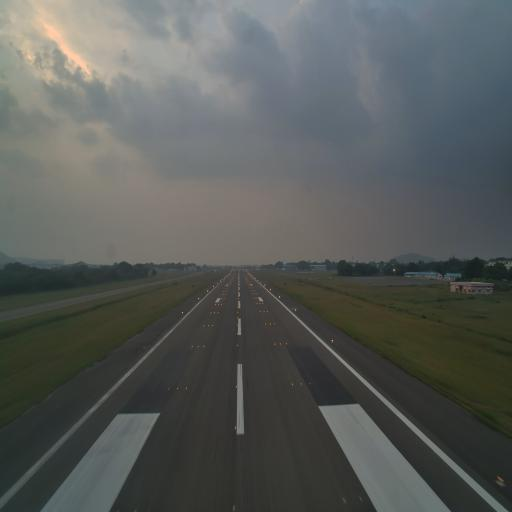off: (143, 345, 146, 351), (236, 359, 238, 365)
on: (496, 470, 506, 489), (231, 502, 237, 512), (234, 424, 238, 432), (167, 386, 171, 393), (176, 385, 180, 392), (291, 380, 294, 388), (308, 381, 312, 387), (331, 338, 335, 344), (185, 385, 188, 392), (202, 344, 206, 349), (191, 344, 194, 350), (273, 341, 276, 347), (300, 381, 303, 386), (236, 382, 238, 389), (197, 344, 199, 350), (236, 343, 239, 347), (280, 341, 282, 346), (286, 341, 288, 345)
